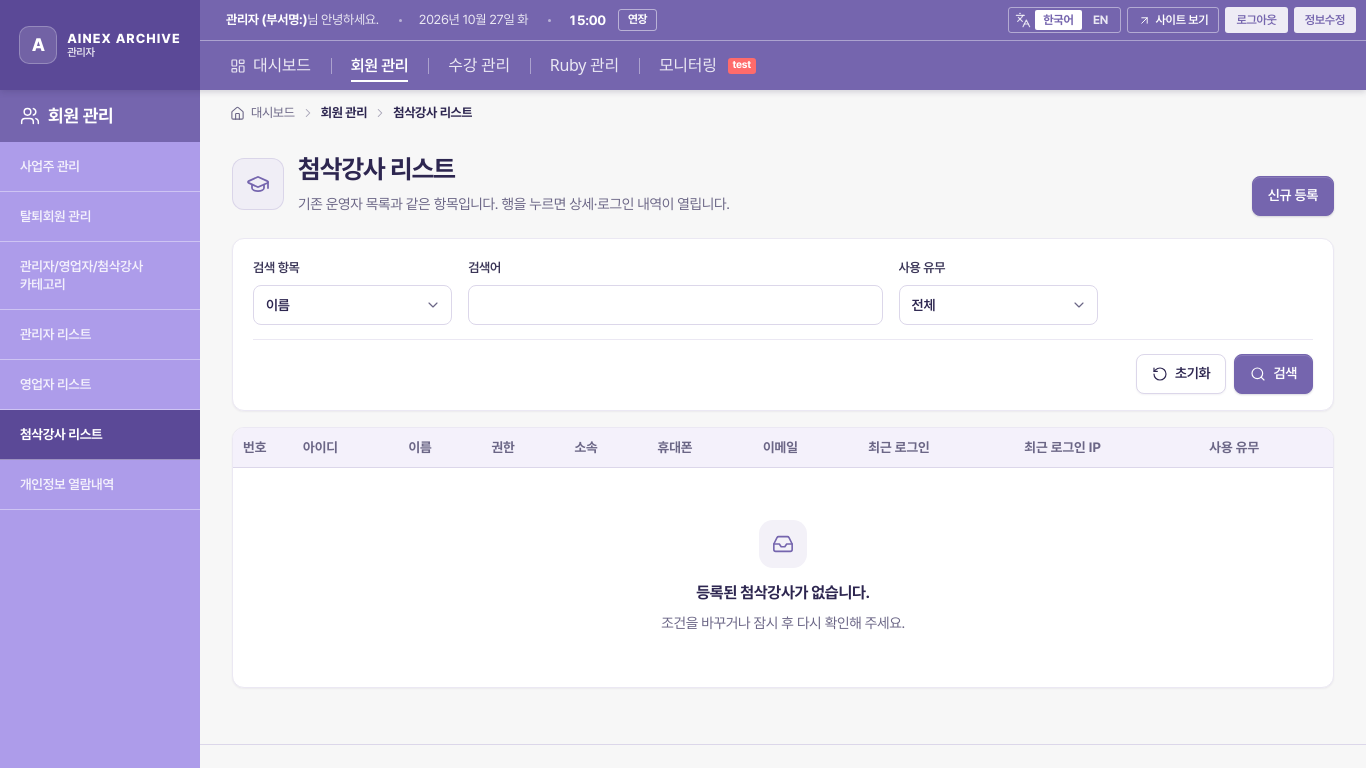
staff parity pages › empty list wording per department and the create form (1111, 중복 검색, required fields, 은행 select)
Expected: the text "등록된 첨삭강사가 없습니다." is shown, 696,583 -> 870,602
Click the button "신규 등록" at x=1293, y=196, box 1252,176 -> 1334,216
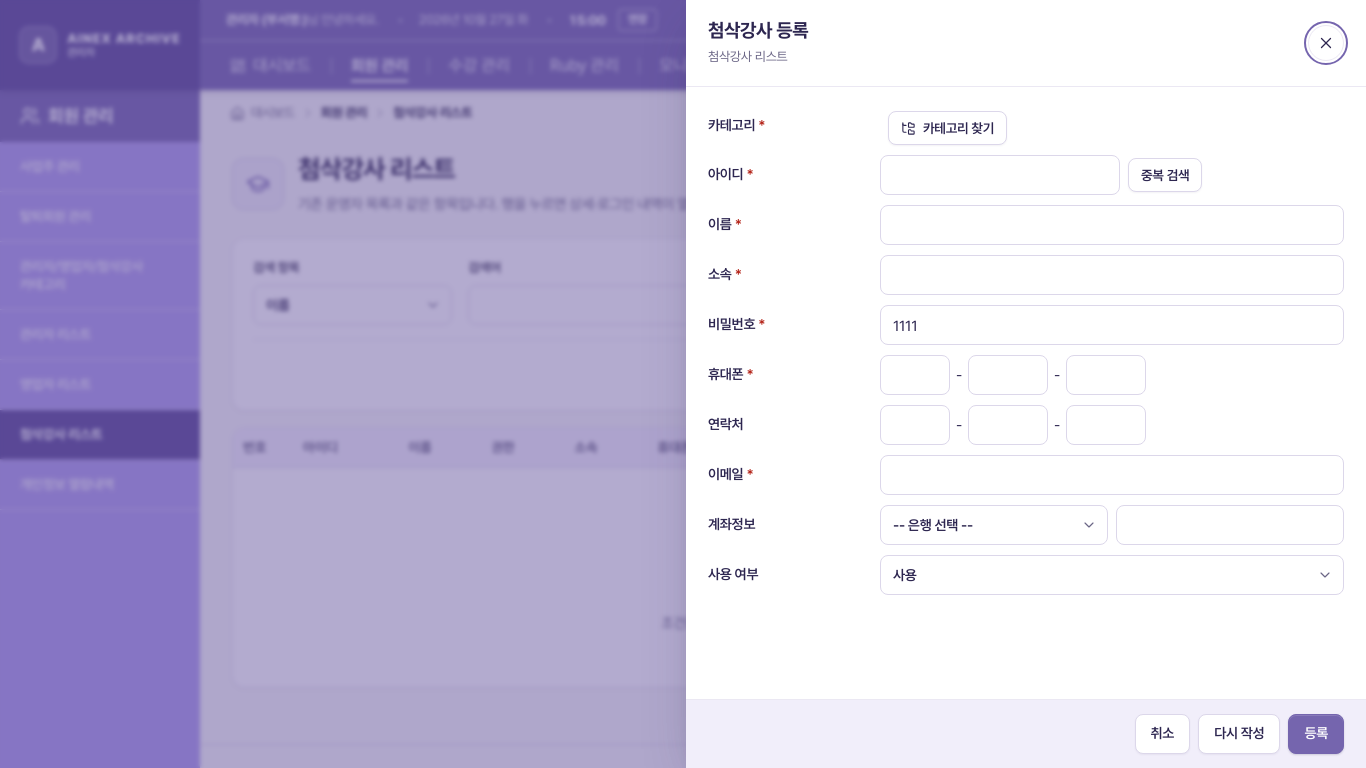
Expected: the heading "첨삭강사 등록" is shown, 708,18 -> 808,43
Expected: the field labelled "비밀번호 *" holds "1111", 880,305 -> 1344,345
Type "newid1" into the field labelled "아이디 *" at x=1000, y=175, box 880,155 -> 1120,195
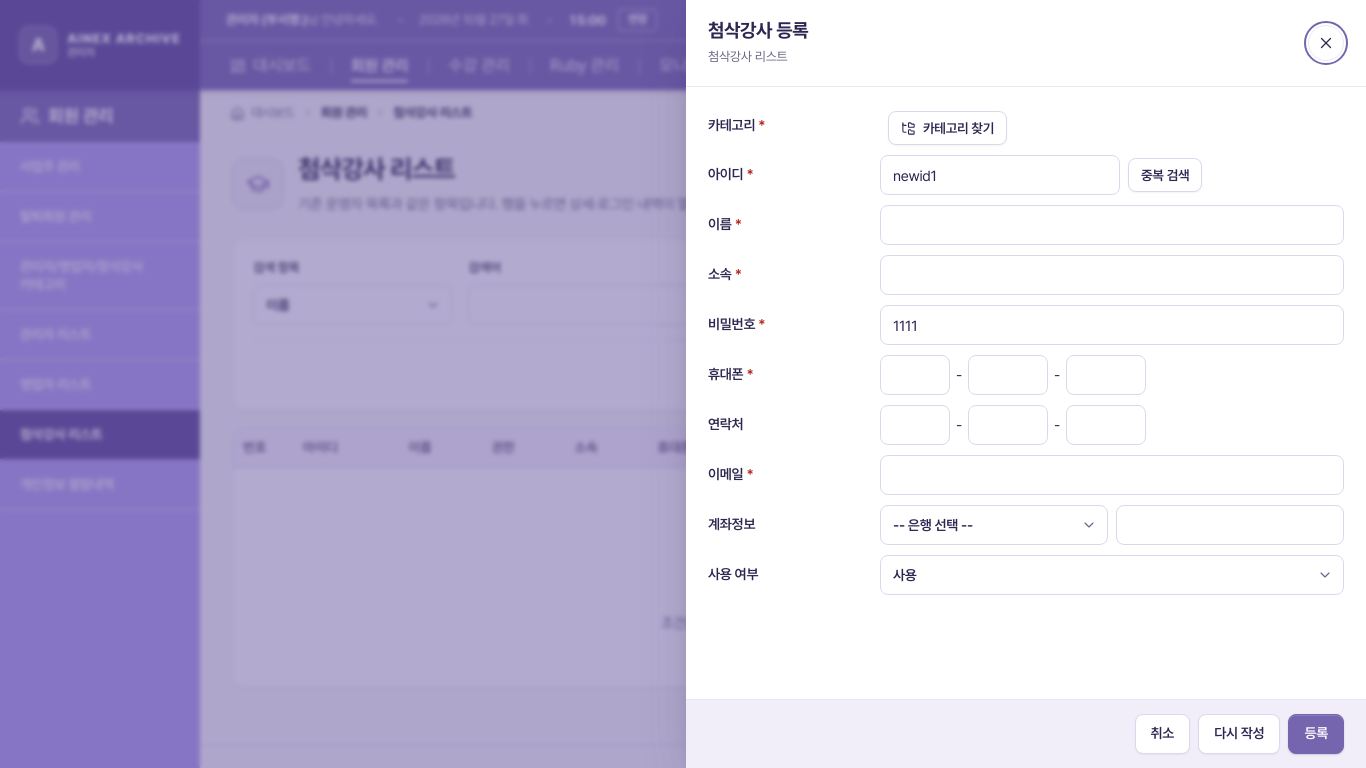
Click the button "중복 검색" at x=1165, y=175, box 1128,158 -> 1202,192
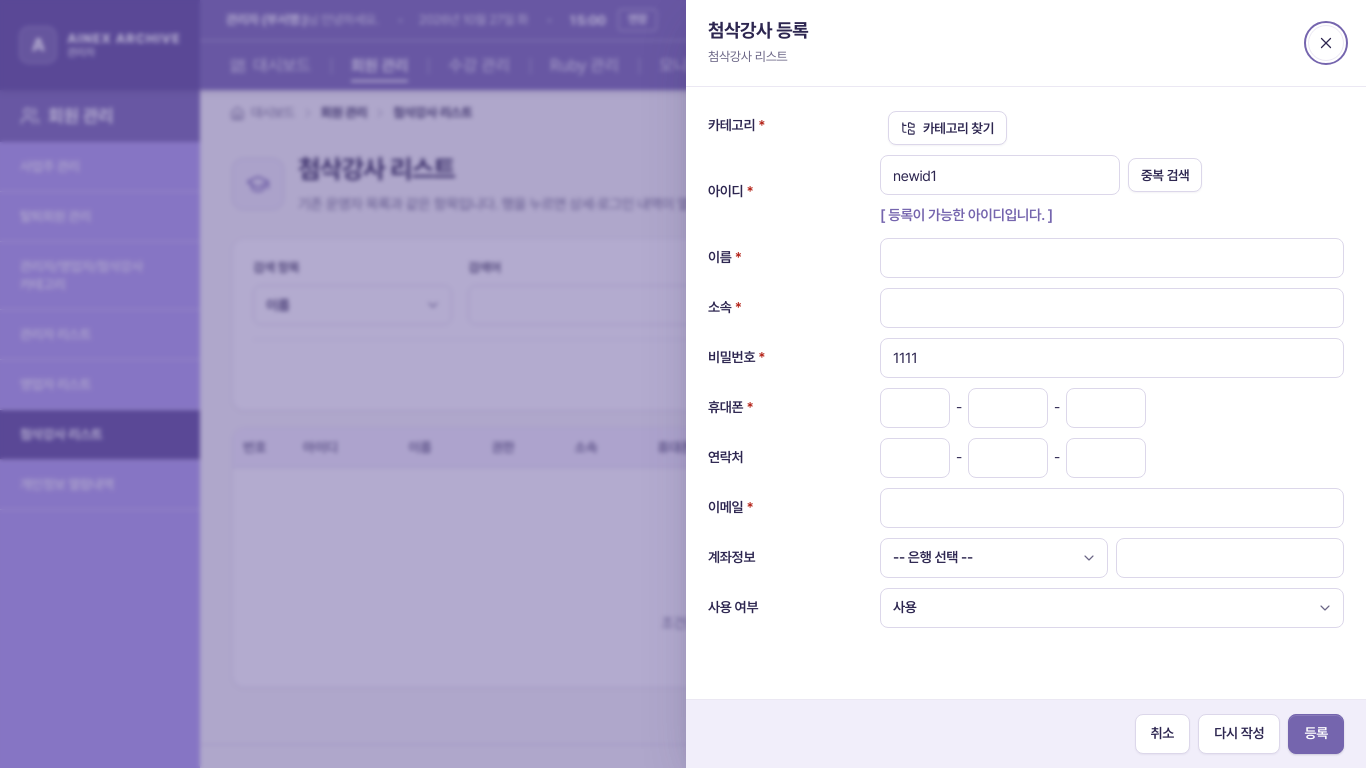
Expected: the dropdown named "은행명" is shown, 880,538 -> 1108,578
Expected: the text "[ 등록이 가능한 아이디입니다. ]" is shown, 880,203 -> 1053,228
Click the button "등록" at x=1316, y=734, box 1288,714 -> 1344,754
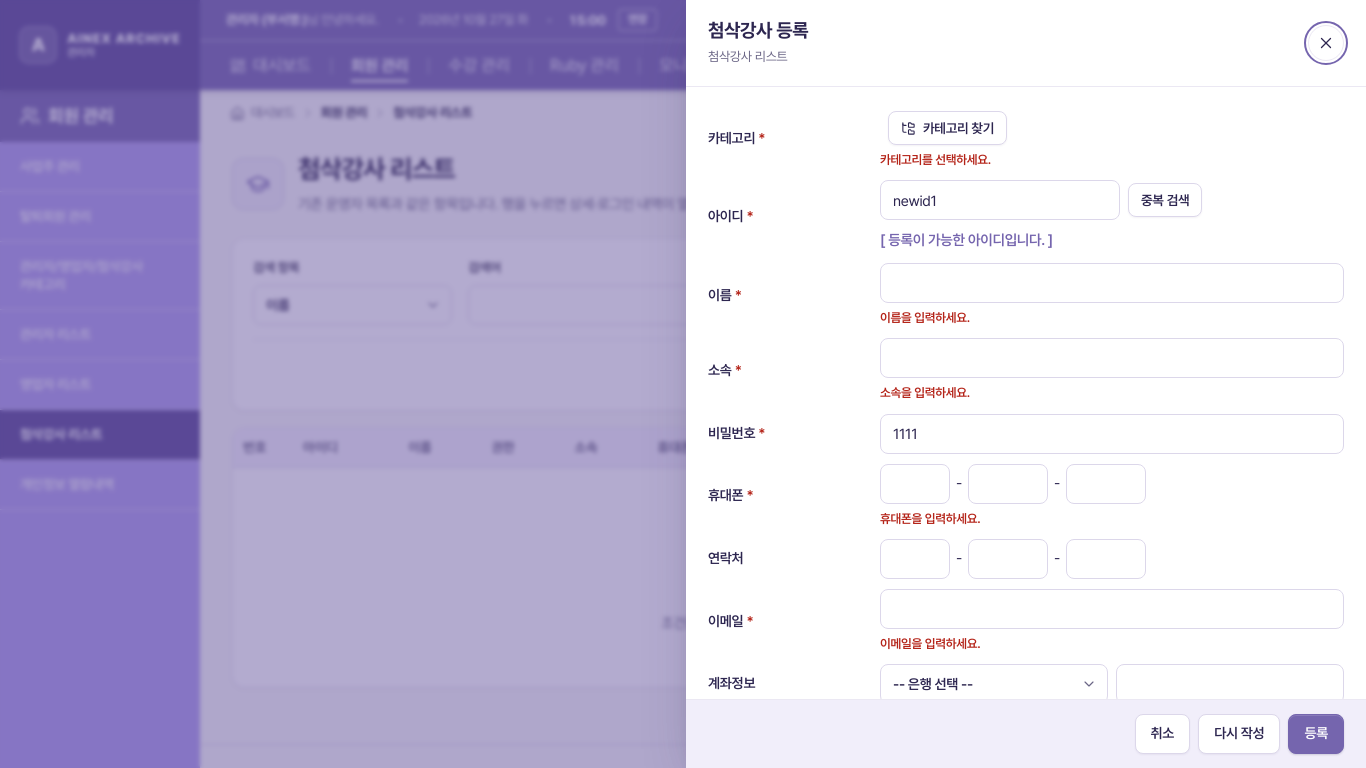
Expected: the text "소속을 입력하세요." is shown, 880,385 -> 970,400
Expected: the text "휴대폰을 입력하세요." is shown, 880,511 -> 980,526
Expected: the text "이메일을 입력하세요." is shown, 880,636 -> 980,651
Click the button "카테고리 찾기" at x=948, y=128, box 888,111 -> 1007,145
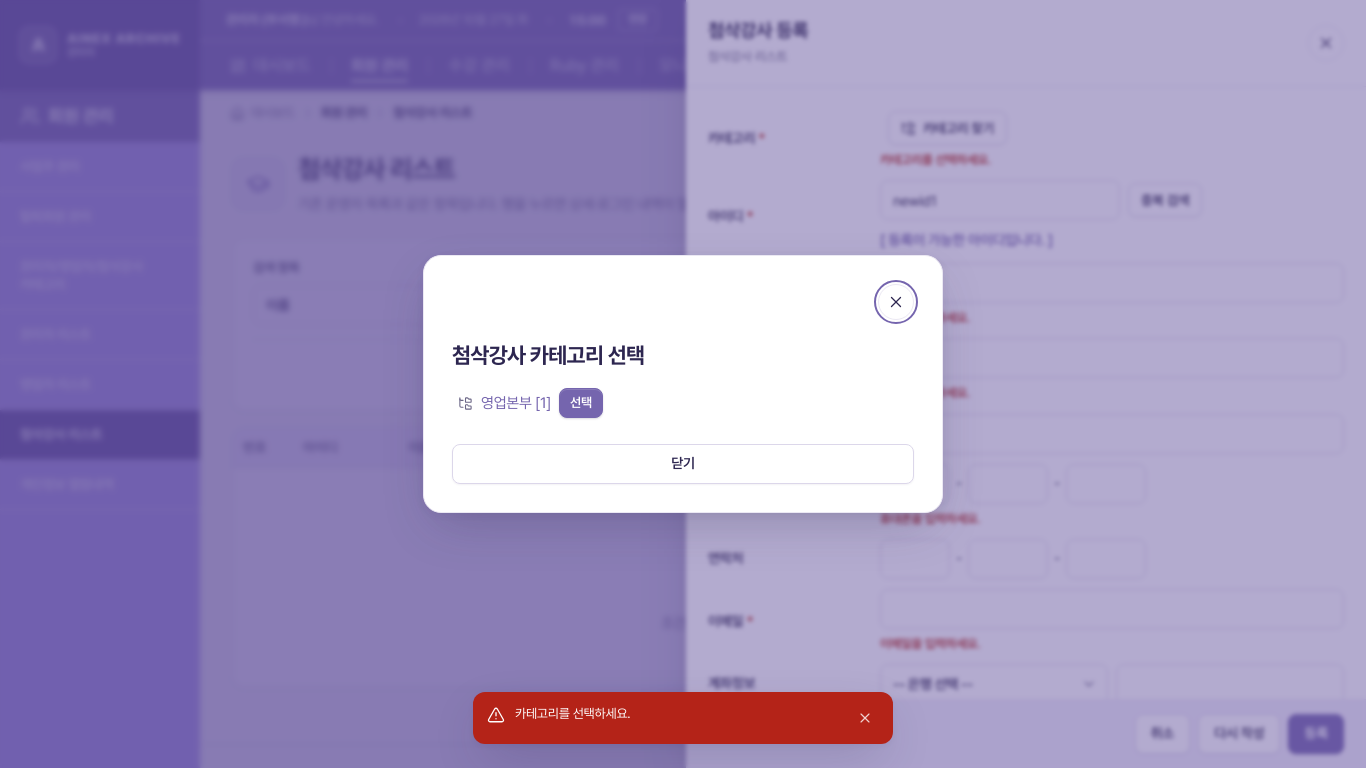
Expected: the text "1팀" is not shown
Click the button "영업본부 [1]" at x=516, y=403, box 481,391 -> 551,416
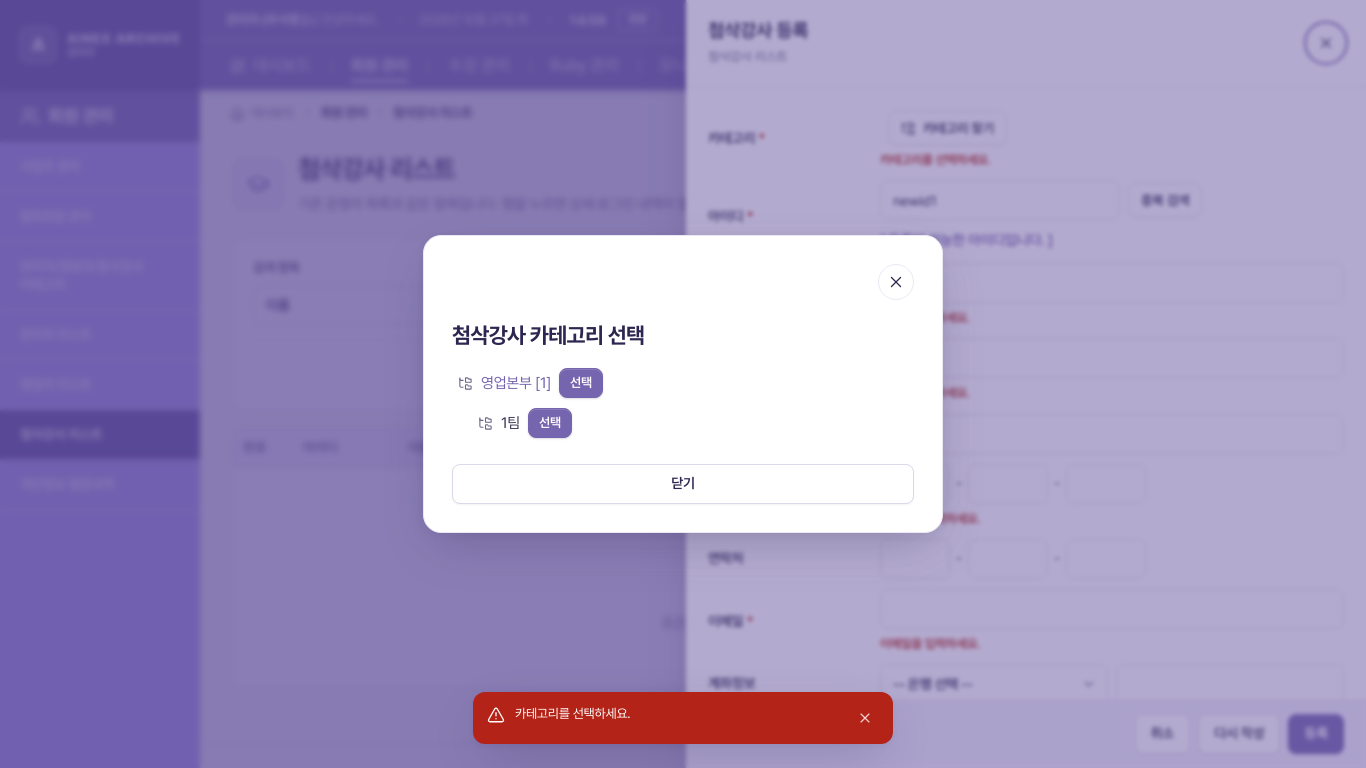
Expected: the text "1팀" is shown, 501,411 -> 520,436
